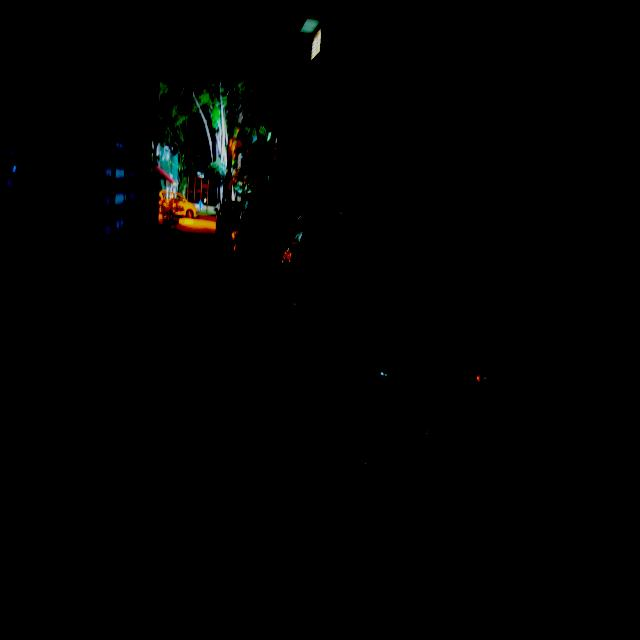Car: (253, 205, 582, 573)
